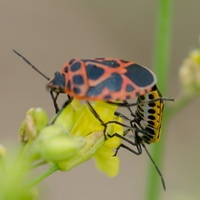insect: (13, 49, 173, 189)
